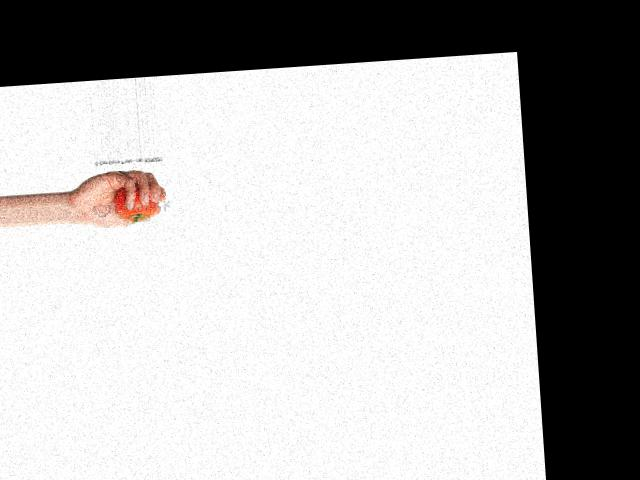tomato: (115, 182, 159, 222)
